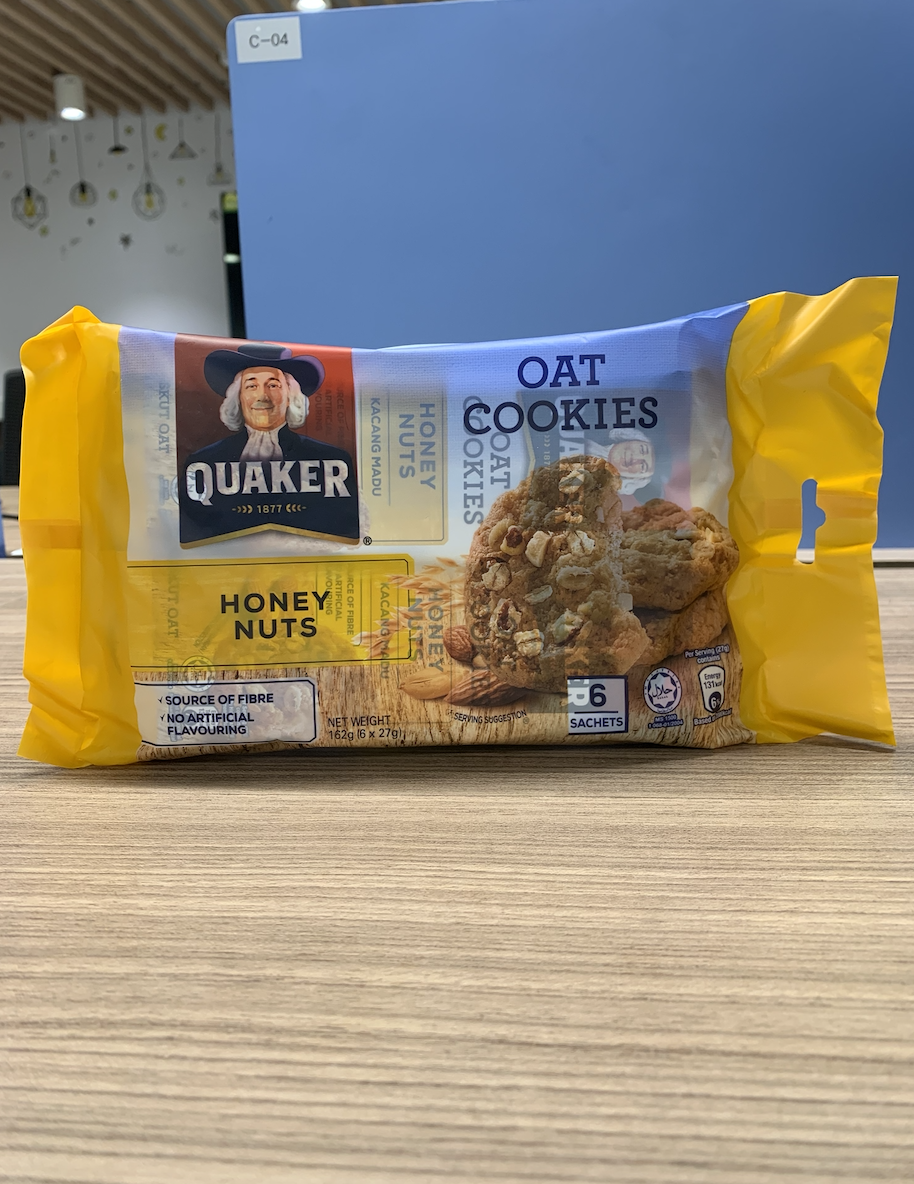cookies_150g: (108, 348, 761, 738)
